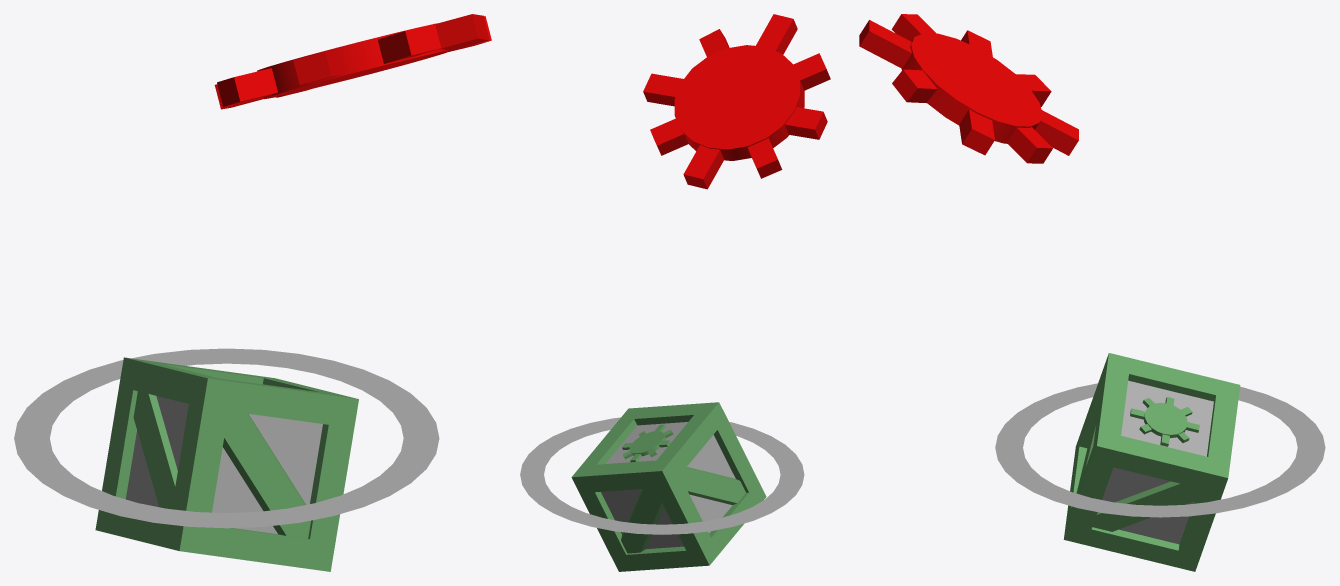
File: mdl_pickUp01.fbx
The picture shows the model from 3 angles, left to right: view 1: azimuth 30°, elevation 25°; view 2: azimuth 150°, elevation 25°; view 3: azimuth 270°, elevation 25°; orthographic projection. The views are drawn at different scales.
Visible parts, largest first — view 1: mdl_pickUp03; view 2: mdl_pickUp03; view 3: mdl_pickUp03.
Boxes of the visible parts, x1,y1,x2,y2 form: mdl_pickUp03: (14,14,491,571); mdl_pickUp03: (520,14,830,571); mdl_pickUp03: (859,14,1325,571).
Bounding box in the file's own units: 663 × 1180 × 935.
